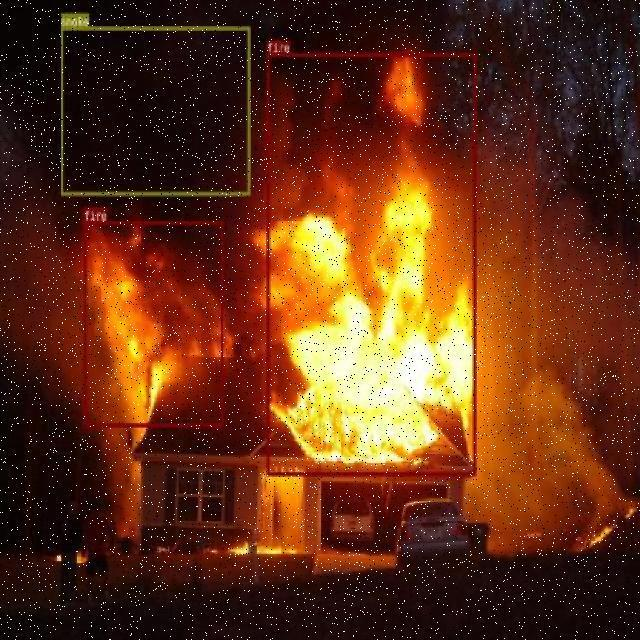Smoke: (27, 59, 154, 163)
